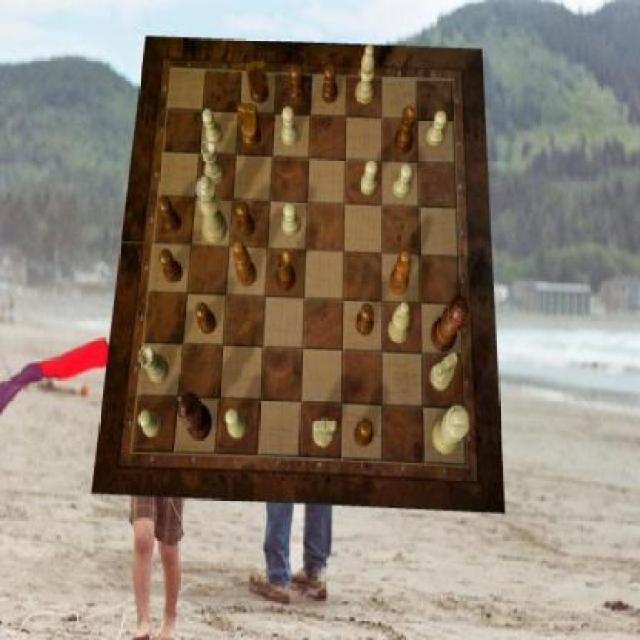bishop: (234, 240, 257, 288), (389, 250, 412, 296)
black-bishop: (178, 394, 212, 441)
black-king: (238, 101, 262, 148), (246, 58, 269, 104)
black-knight: (158, 197, 182, 233), (158, 249, 182, 283), (195, 301, 218, 334), (289, 64, 306, 104), (236, 202, 254, 238), (322, 64, 338, 104), (355, 303, 373, 337), (354, 420, 374, 448)
black-pawn: (431, 295, 470, 353)
black-queen: (394, 106, 416, 156), (277, 249, 297, 292)
black-rook: (356, 46, 376, 106), (388, 301, 410, 344)
white-bishop: (432, 406, 470, 456)
white-king: (431, 352, 458, 391), (312, 417, 336, 448)
white-knight: (203, 108, 223, 146), (426, 111, 447, 145), (394, 163, 414, 198), (138, 411, 162, 438), (282, 106, 298, 146), (226, 408, 247, 438), (360, 160, 378, 195), (282, 203, 299, 237)
white-pawn: (197, 177, 228, 245)
white-queen: (138, 346, 170, 384), (202, 138, 226, 184)
